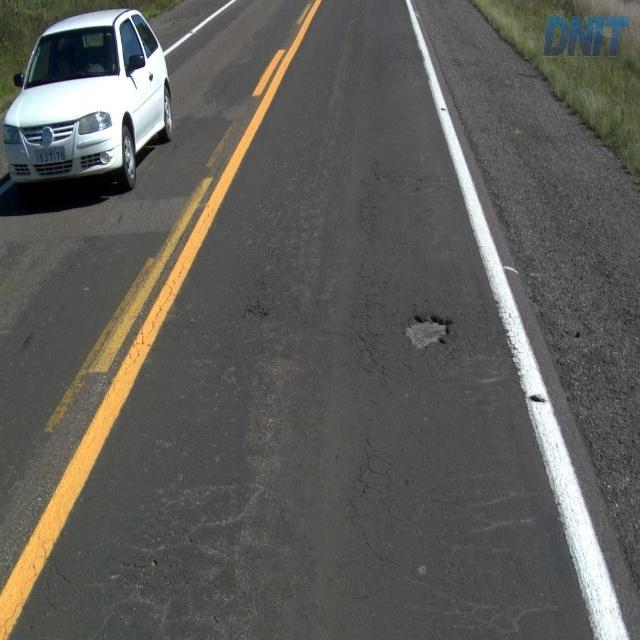pothole: (402, 309, 451, 350)
